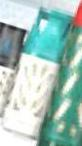cylinder: (1, 0, 82, 146)
